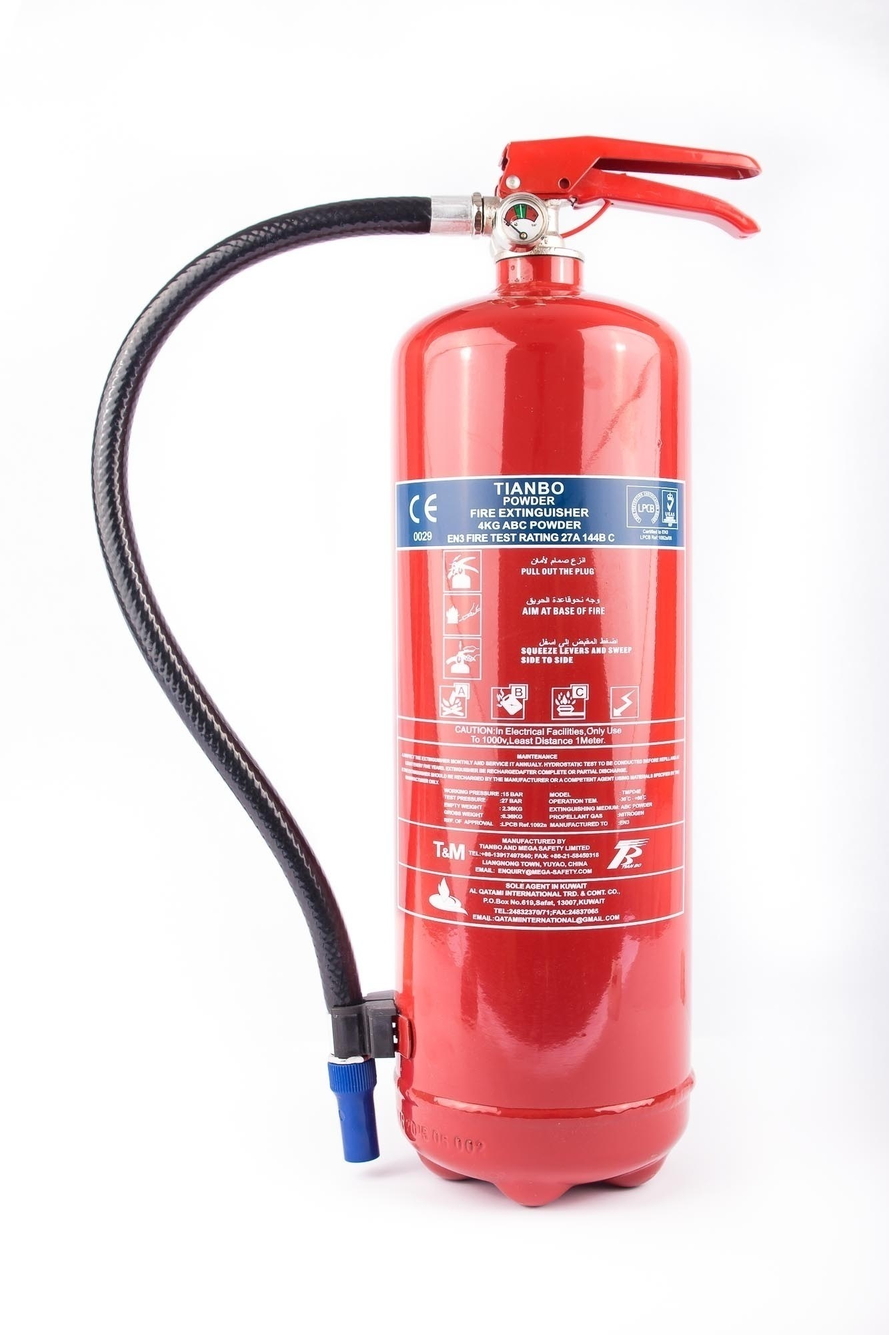fire_extinguisher: (91, 135, 763, 1208)
